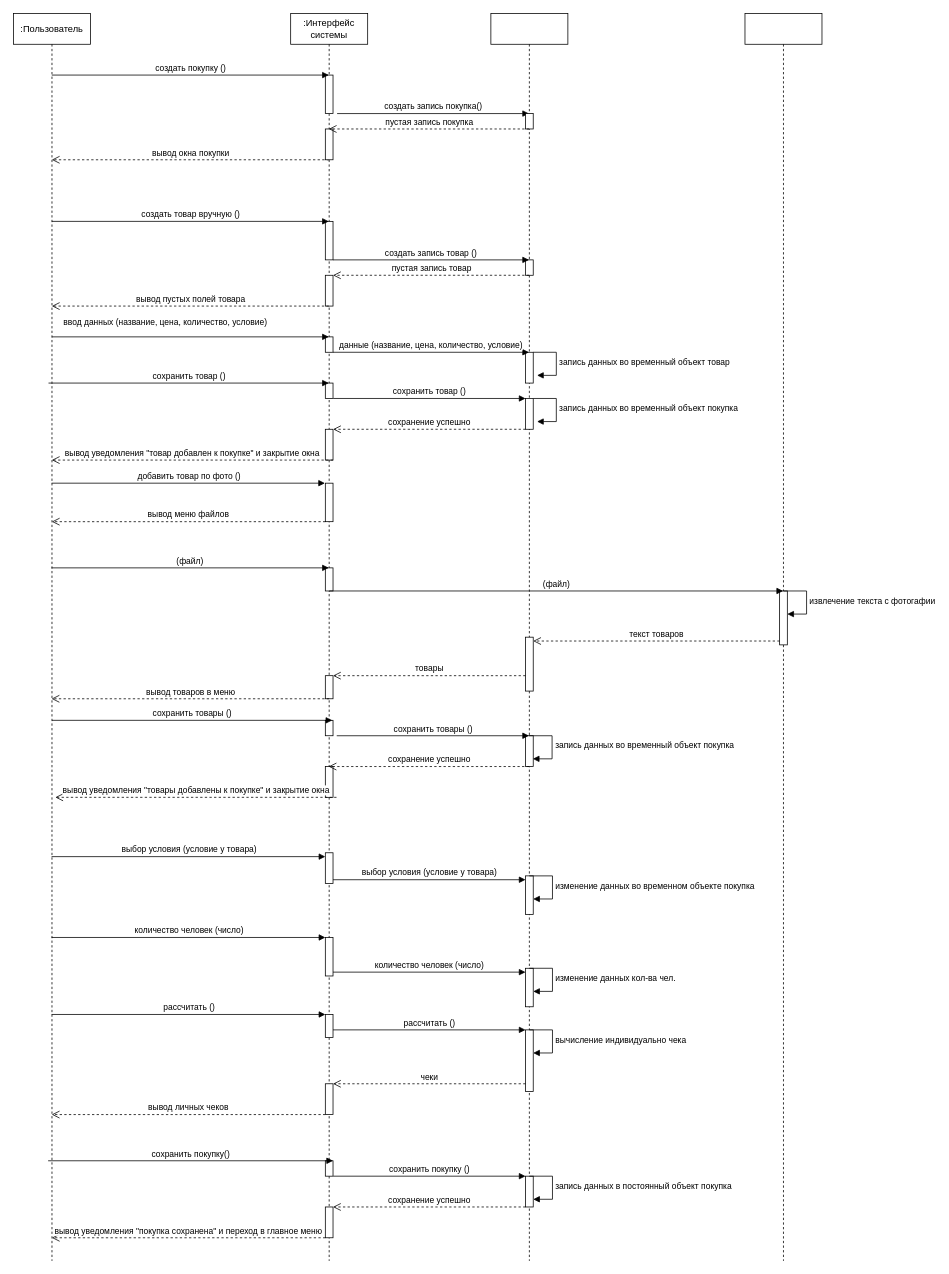
This 949x1274 diagram has some shape labels left out. The shapes that lost their labels are listed below. From the top down, each one's box as (x1, y1, x2, y2) in pixels, then its label:
(490, 13, 568, 1261): :Приложение
(744, 13, 822, 1261): :Object
